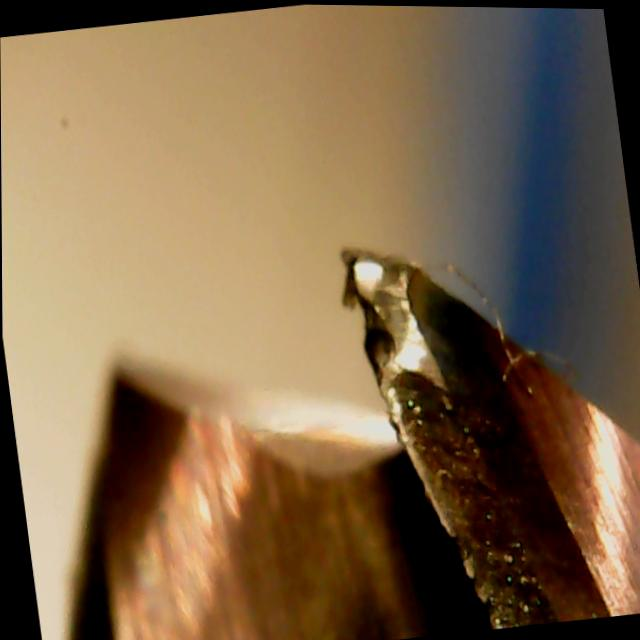Tool-wear-class-2: (329, 223, 575, 601)
